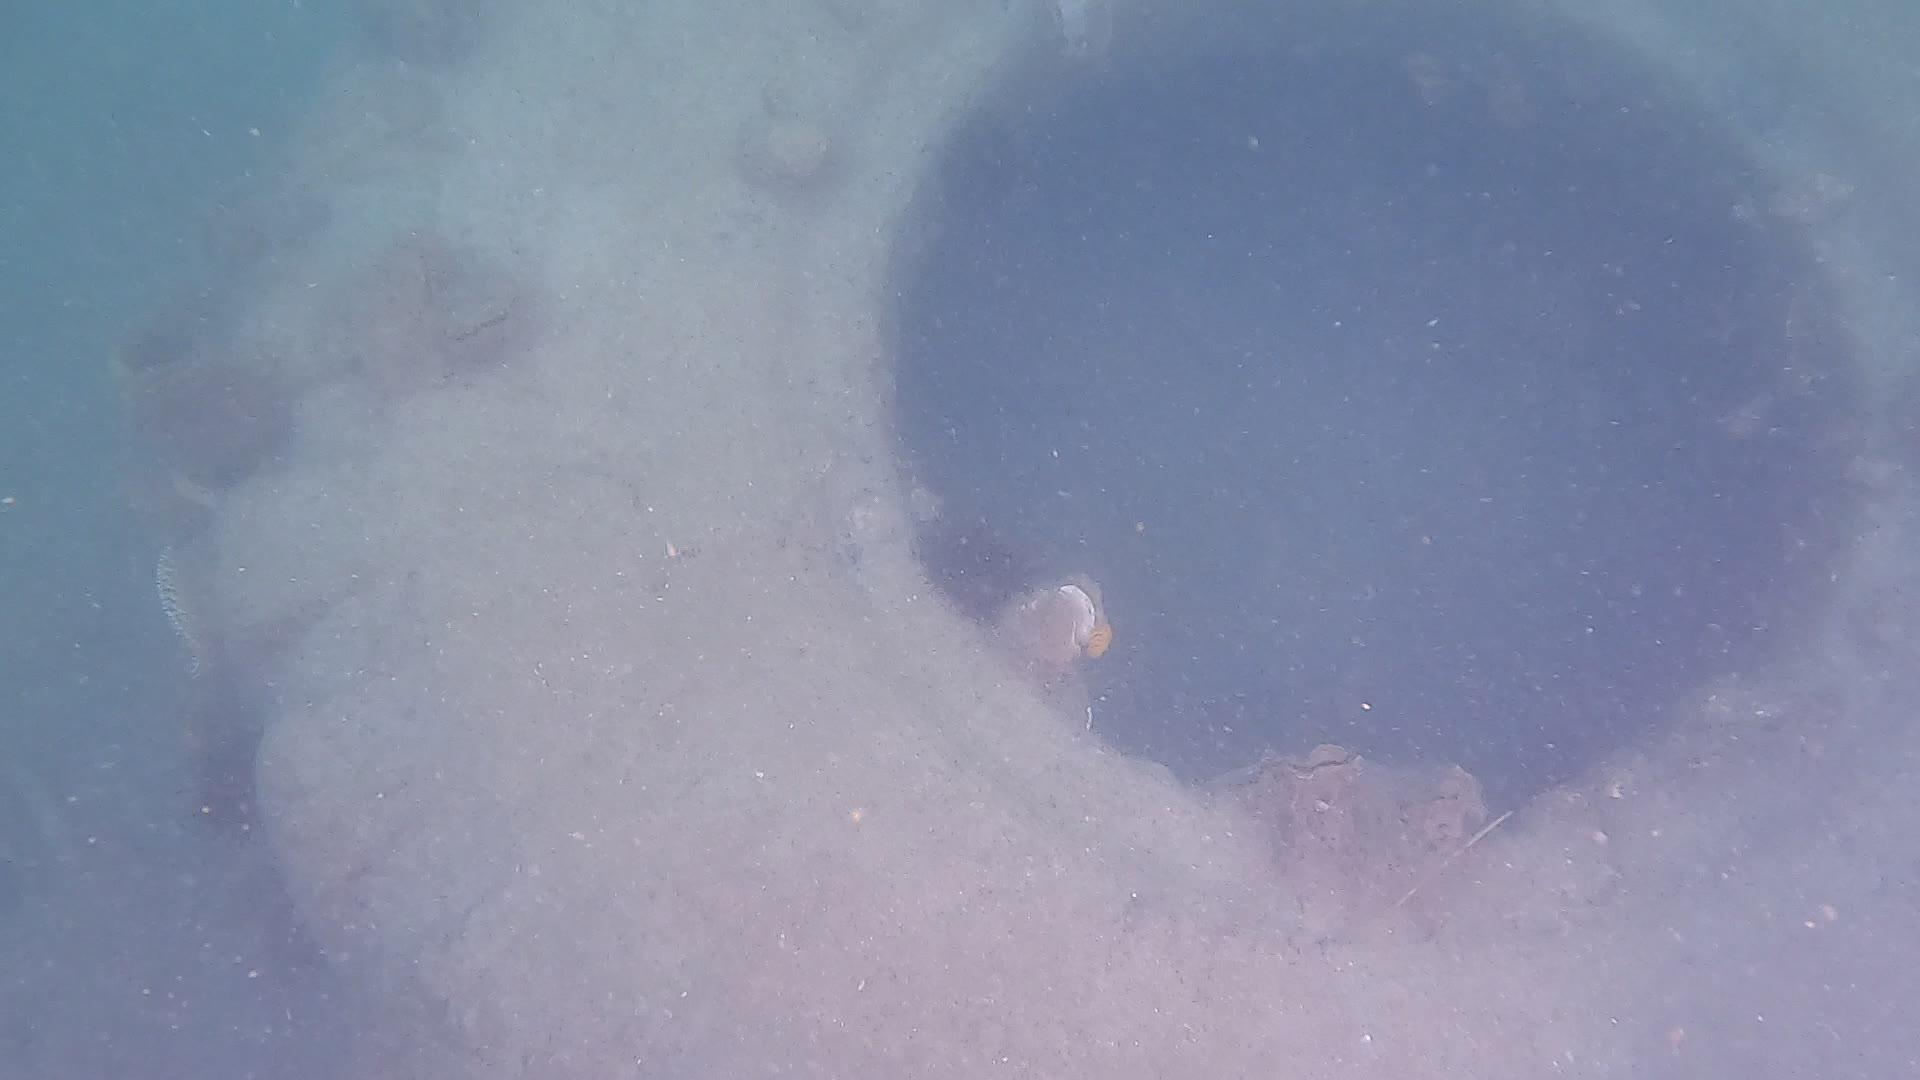tire: (206, 0, 1920, 1080)
